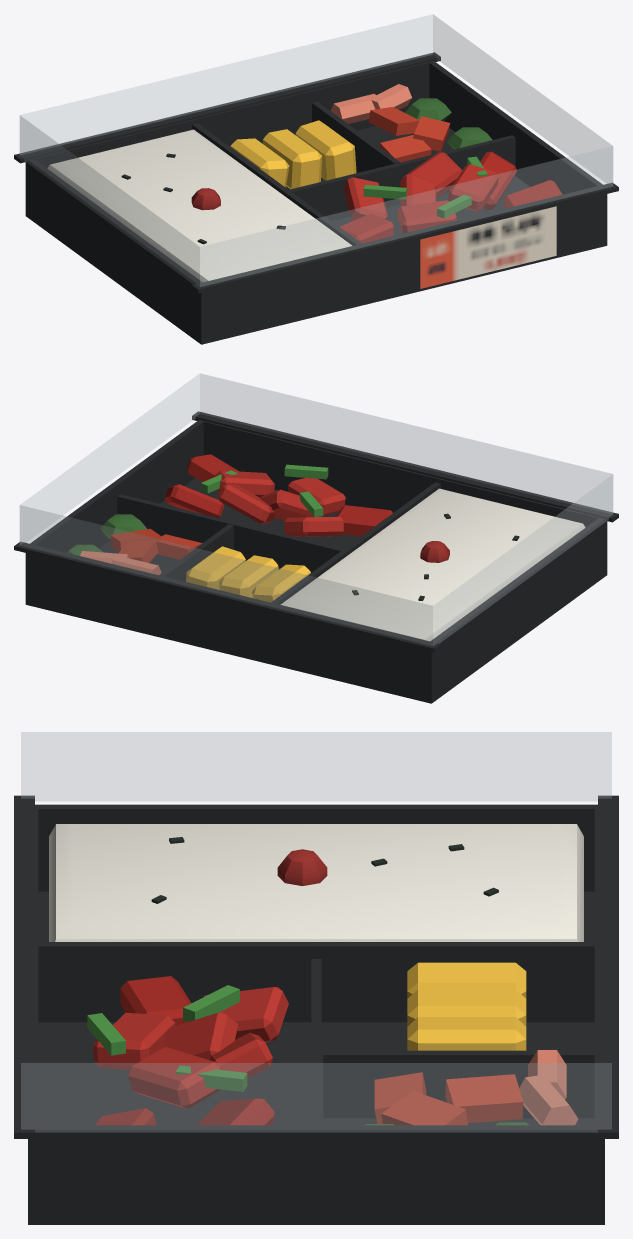
Rendered from SC_Prod_LunchBox.gltf.
3 renders of one model, top to bottom at view 1: azimuth 30°, elevation 25°; view 2: azimuth 150°, elevation 25°; view 3: azimuth 270°, elevation 25°, orthographic. The views are drawn at different scales.
Visible parts, largest first — view 1: SC_Prod_LunchBox; view 2: SC_Prod_LunchBox; view 3: SC_Prod_LunchBox.
Boxes of the visible parts, <box> form: SC_Prod_LunchBox: <box>14,14,618,344</box>; SC_Prod_LunchBox: <box>14,373,618,703</box>; SC_Prod_LunchBox: <box>14,732,618,1224</box>.
Bounding box in the file's own units: 0.228 × 0.052 × 0.173.
Materials: 3 (3 with a texture image).
